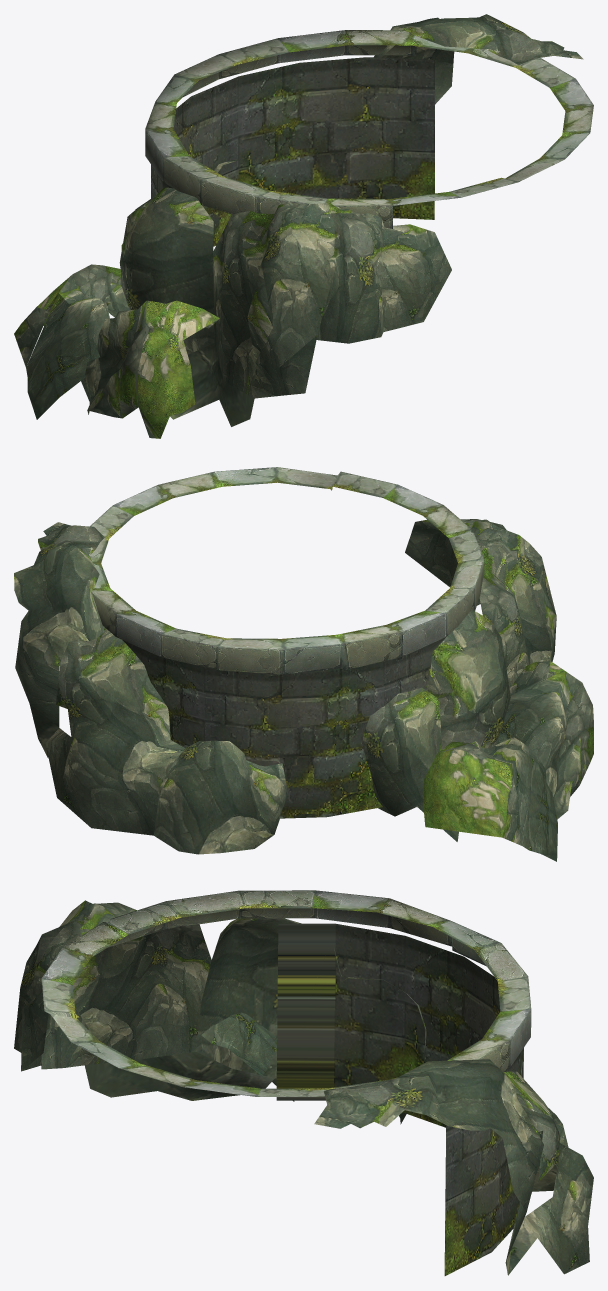
File: s_battle_05_dizuo.FBX
3 renders of one model, top to bottom at view 1: azimuth 30°, elevation 25°; view 2: azimuth 150°, elevation 25°; view 3: azimuth 270°, elevation 25°, orthographic. The views are drawn at different scales.
Parts seen in each view (by area): view 1: dizuo2, dizuonnnn, dizuo5, asdasd, dizuo3, dizuo1, dizuo4; view 2: dizuo4, dizuonnnn, dizuo2, dizuo5, dizuo1, dizuo3, asdasd; view 3: dizuonnnn, dizuo2, dizuo5, dizuo4, asdasd, dizuo3.
Boxes of the visible parts, box(x1,y1,x2,y2) form: dizuo2: box(119, 187, 351, 426); dizuonnnn: box(151, 57, 434, 246); dizuo5: box(145, 30, 593, 228); asdasd: box(316, 212, 451, 343); dizuo3: box(81, 300, 219, 438); dizuo1: box(14, 264, 129, 419); dizuo4: box(214, 14, 583, 172); dizuo4: box(14, 522, 288, 854); dizuonnnn: box(104, 627, 445, 818); dizuo2: box(363, 521, 556, 841); dizuo5: box(89, 467, 484, 674); dizuo1: box(423, 737, 557, 861); dizuo3: box(496, 661, 593, 819); asdasd: box(405, 519, 506, 605); dizuonnnn: box(276, 923, 523, 1275); dizuo2: box(41, 900, 426, 1124); dizuo5: box(41, 890, 531, 1096); dizuo4: box(314, 1059, 593, 1275); asdasd: box(14, 919, 90, 1071); dizuo3: box(201, 1012, 294, 1101).
Size of the model in its own units: 62.27 by 27.2 by 51.19.
